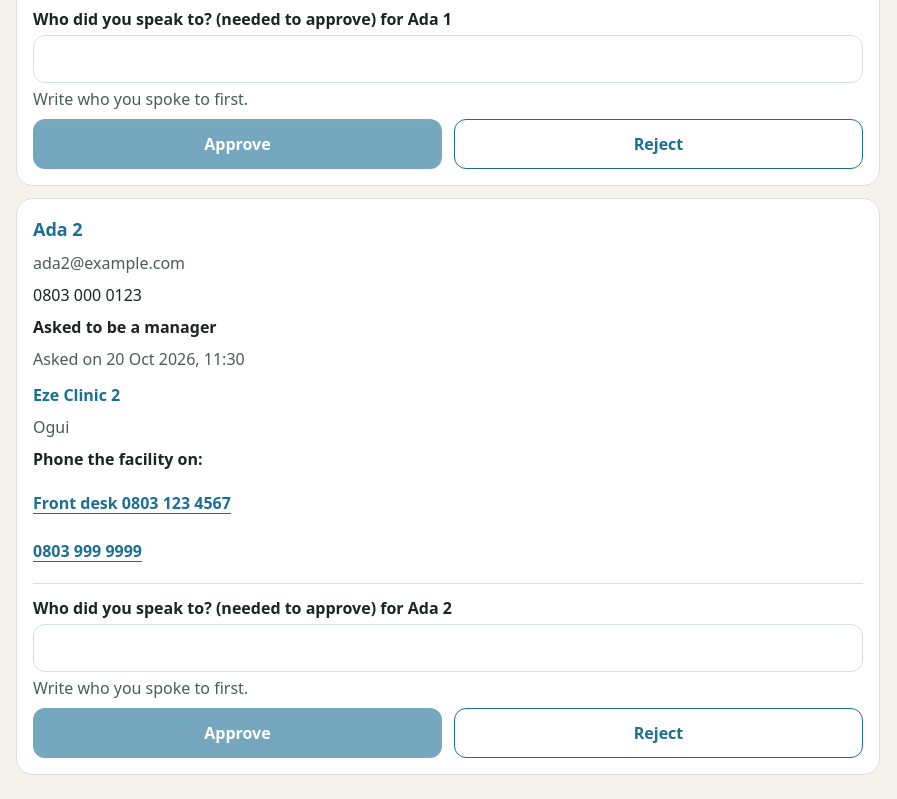
Scenario: approving › says a manager in the question and the sentence
(page scrolled)
Type "Mrs Eze" into the field labelled "Who did you speak to? (needed to approve) for Ada 2".
click(448, 648); type("Mrs Eze")  # box [33,624,863,672]
(page scrolled)
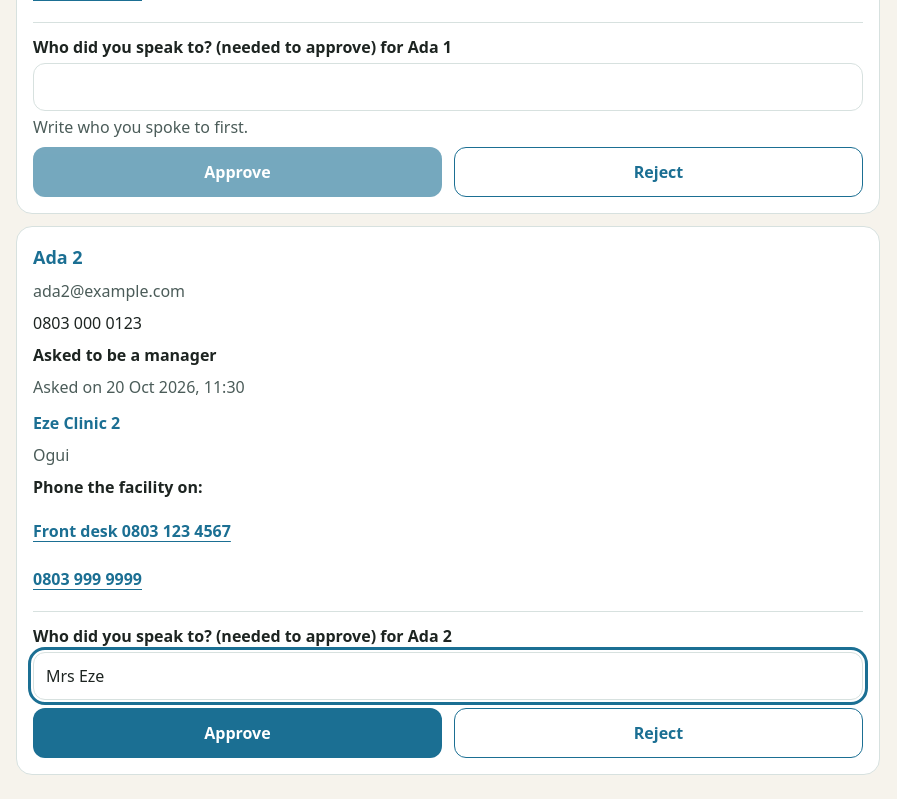
Click the button with aria-label "Approve Ada 2".
click(238, 733)  # box [33,708,442,758]
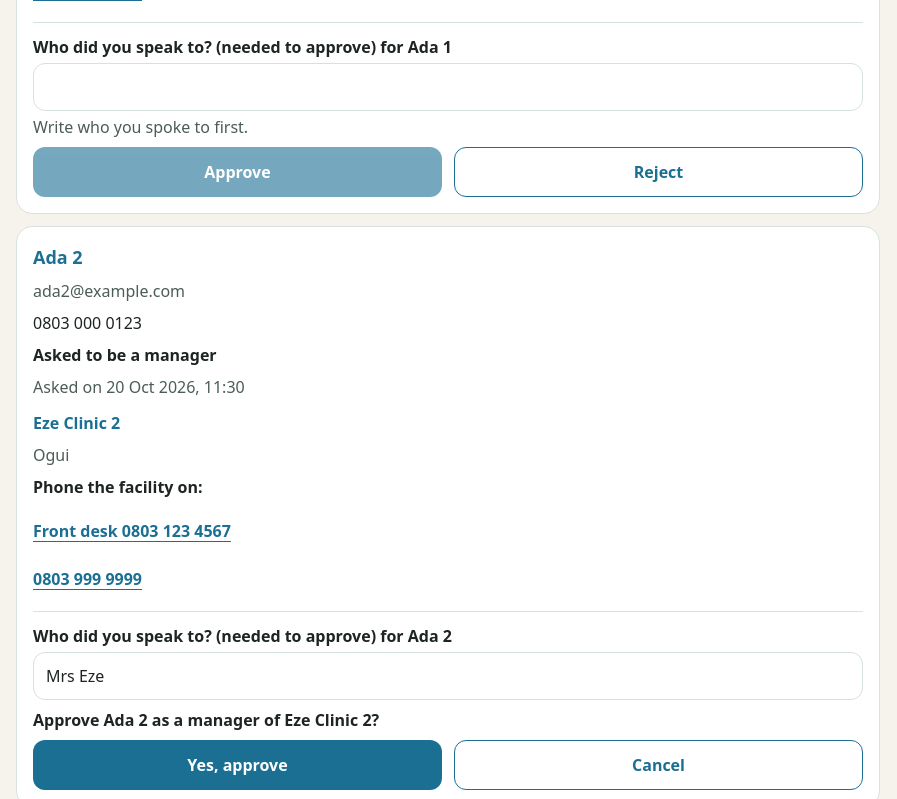
Expected: the text "Approve Ada 2 as a manager of Eze Clinic 2?" is shown, [33,709,379,731]
